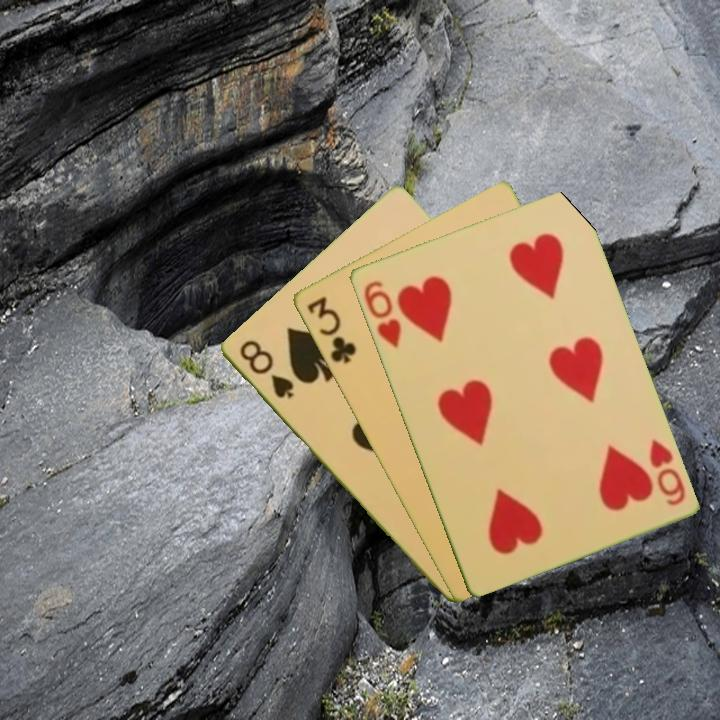3c: (303, 292, 359, 367)
6h: (359, 276, 404, 351), (645, 435, 688, 509)
8s: (235, 336, 297, 402)
